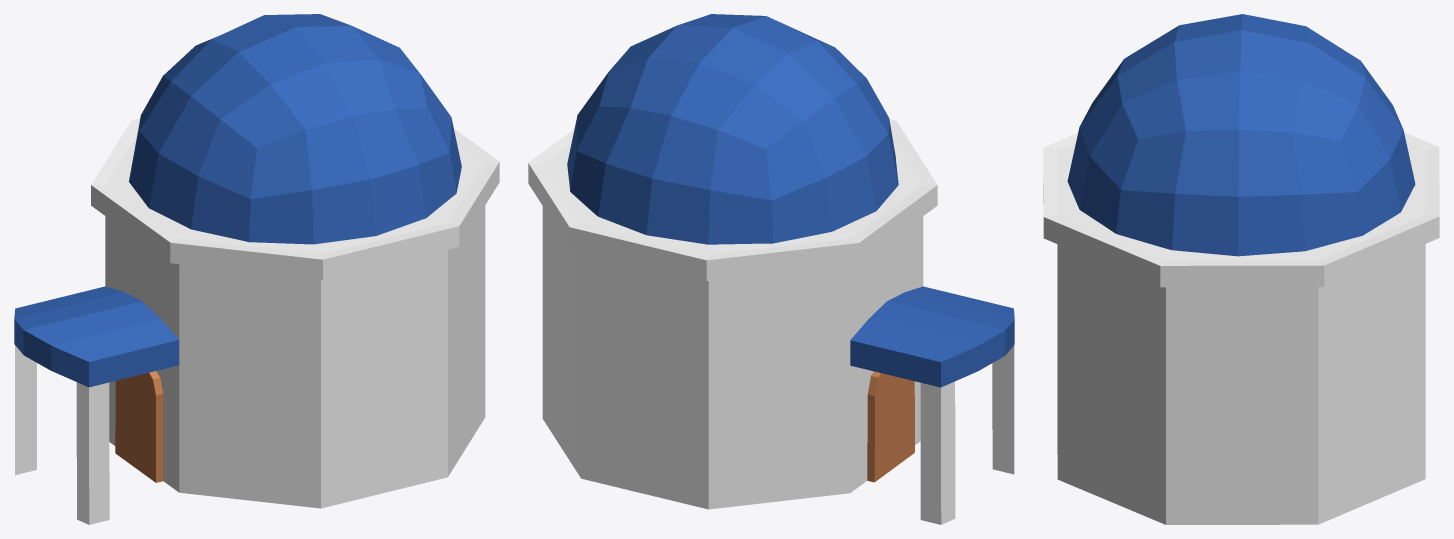
Rendered from house_07.fbx.
3 views of the same model, side by side, from view 1: azimuth 30°, elevation 25°; view 2: azimuth 150°, elevation 25°; view 3: azimuth 270°, elevation 25° (orthographic). The views are drawn at different scales.
Visible parts, largest first — view 1: house_07; view 2: house_07; view 3: house_07.
Part boxes in pixels (x1,y1,x2,y2): house_07: (14,14,499,524); house_07: (528,14,1014,524); house_07: (1043,14,1439,524).
Bounding box in the file's own units: 816 × 733 × 617.
1 material, 1 textured.
